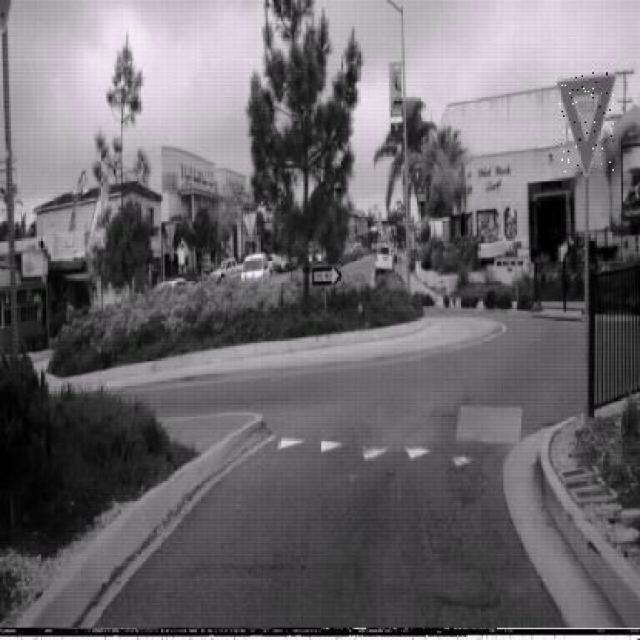yield: (557, 72, 615, 176)
